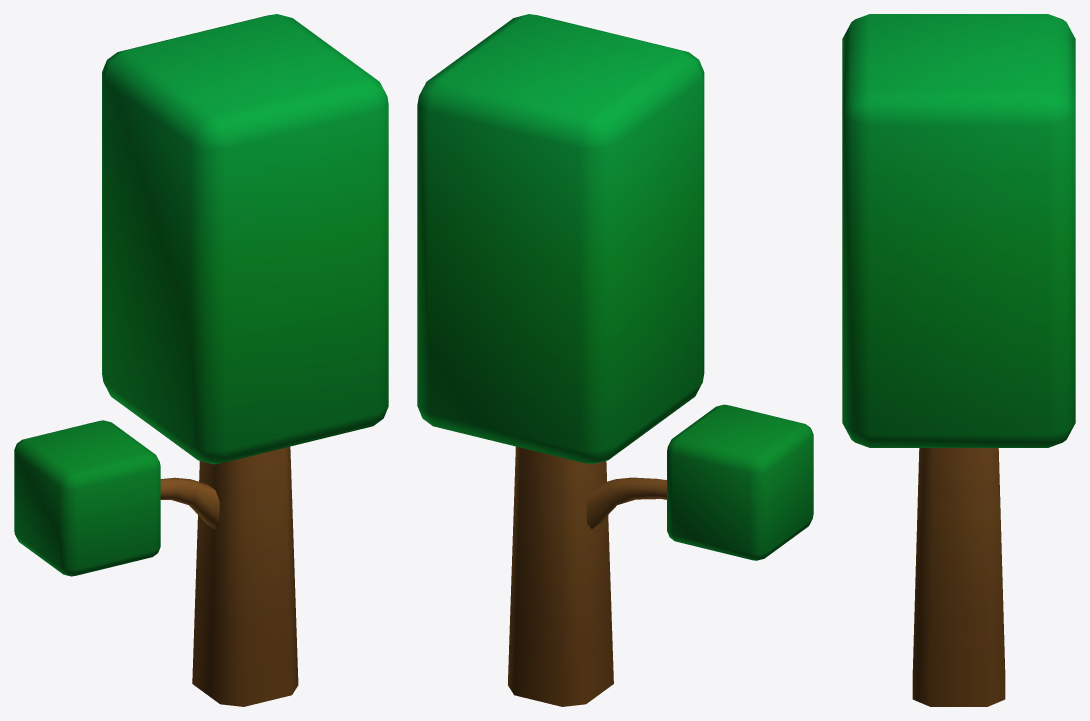
File: Tree_F_4_.fbx
3 renders of one model, left to right at view 1: azimuth 30°, elevation 25°; view 2: azimuth 150°, elevation 25°; view 3: azimuth 270°, elevation 25°, orthographic. The views are drawn at different scales.
Visible parts, largest first — view 1: Tree_F_4; view 2: Tree_F_4; view 3: Tree_F_4.
Boxes of the visible parts, left/top/right/bottom form: Tree_F_4: left=14, top=14, right=388, bottom=706; Tree_F_4: left=417, top=14, right=813, bottom=706; Tree_F_4: left=842, top=14, right=1075, bottom=706.
Size of the model in its own units: 236 by 441 by 146.
